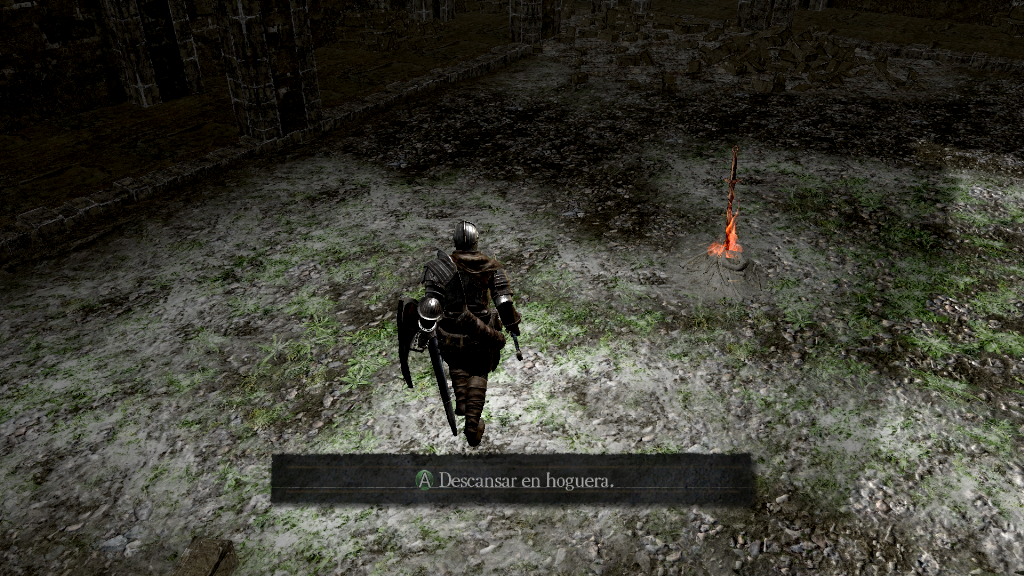bonfire: (680, 145, 774, 292)
dialogBox: (274, 453, 752, 505)
player: (395, 219, 524, 448)
